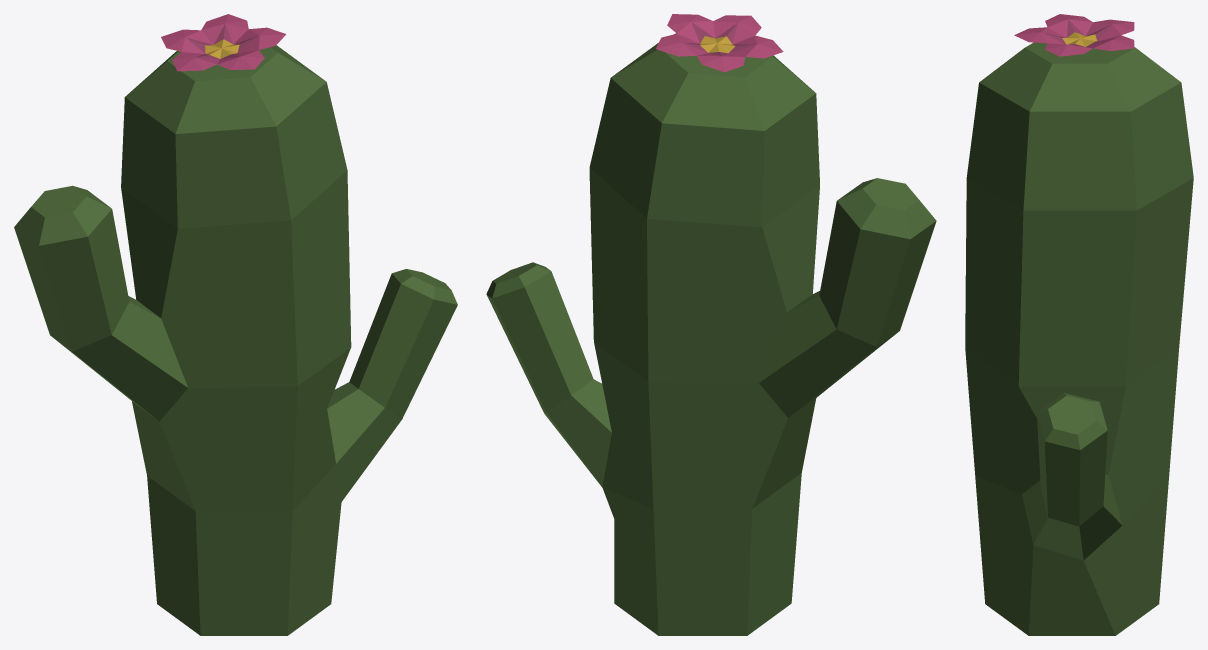
Rendered from SM_Envr_Nature_Plant_Desert_06.fbx.
3 views of the same model, side by side, from view 1: azimuth 30°, elevation 25°; view 2: azimuth 150°, elevation 25°; view 3: azimuth 270°, elevation 25° (orthographic).
Parts seen in each view (by area): view 1: SM_Envr_Nature_Plant_Desert_06; view 2: SM_Envr_Nature_Plant_Desert_06; view 3: SM_Envr_Nature_Plant_Desert_06.
Part boxes in pixels (bbox=[...]): SM_Envr_Nature_Plant_Desert_06: bbox=[14, 14, 457, 635]; SM_Envr_Nature_Plant_Desert_06: bbox=[486, 14, 936, 635]; SM_Envr_Nature_Plant_Desert_06: bbox=[965, 14, 1193, 635].
Size of the model in its own units: 102 by 130 by 47.61.
